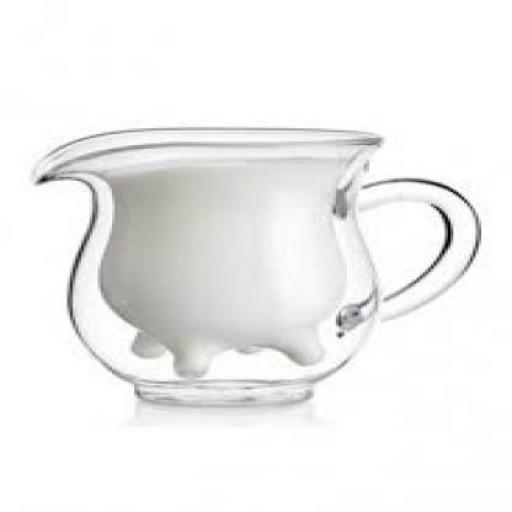glass: (28, 126, 478, 404)
